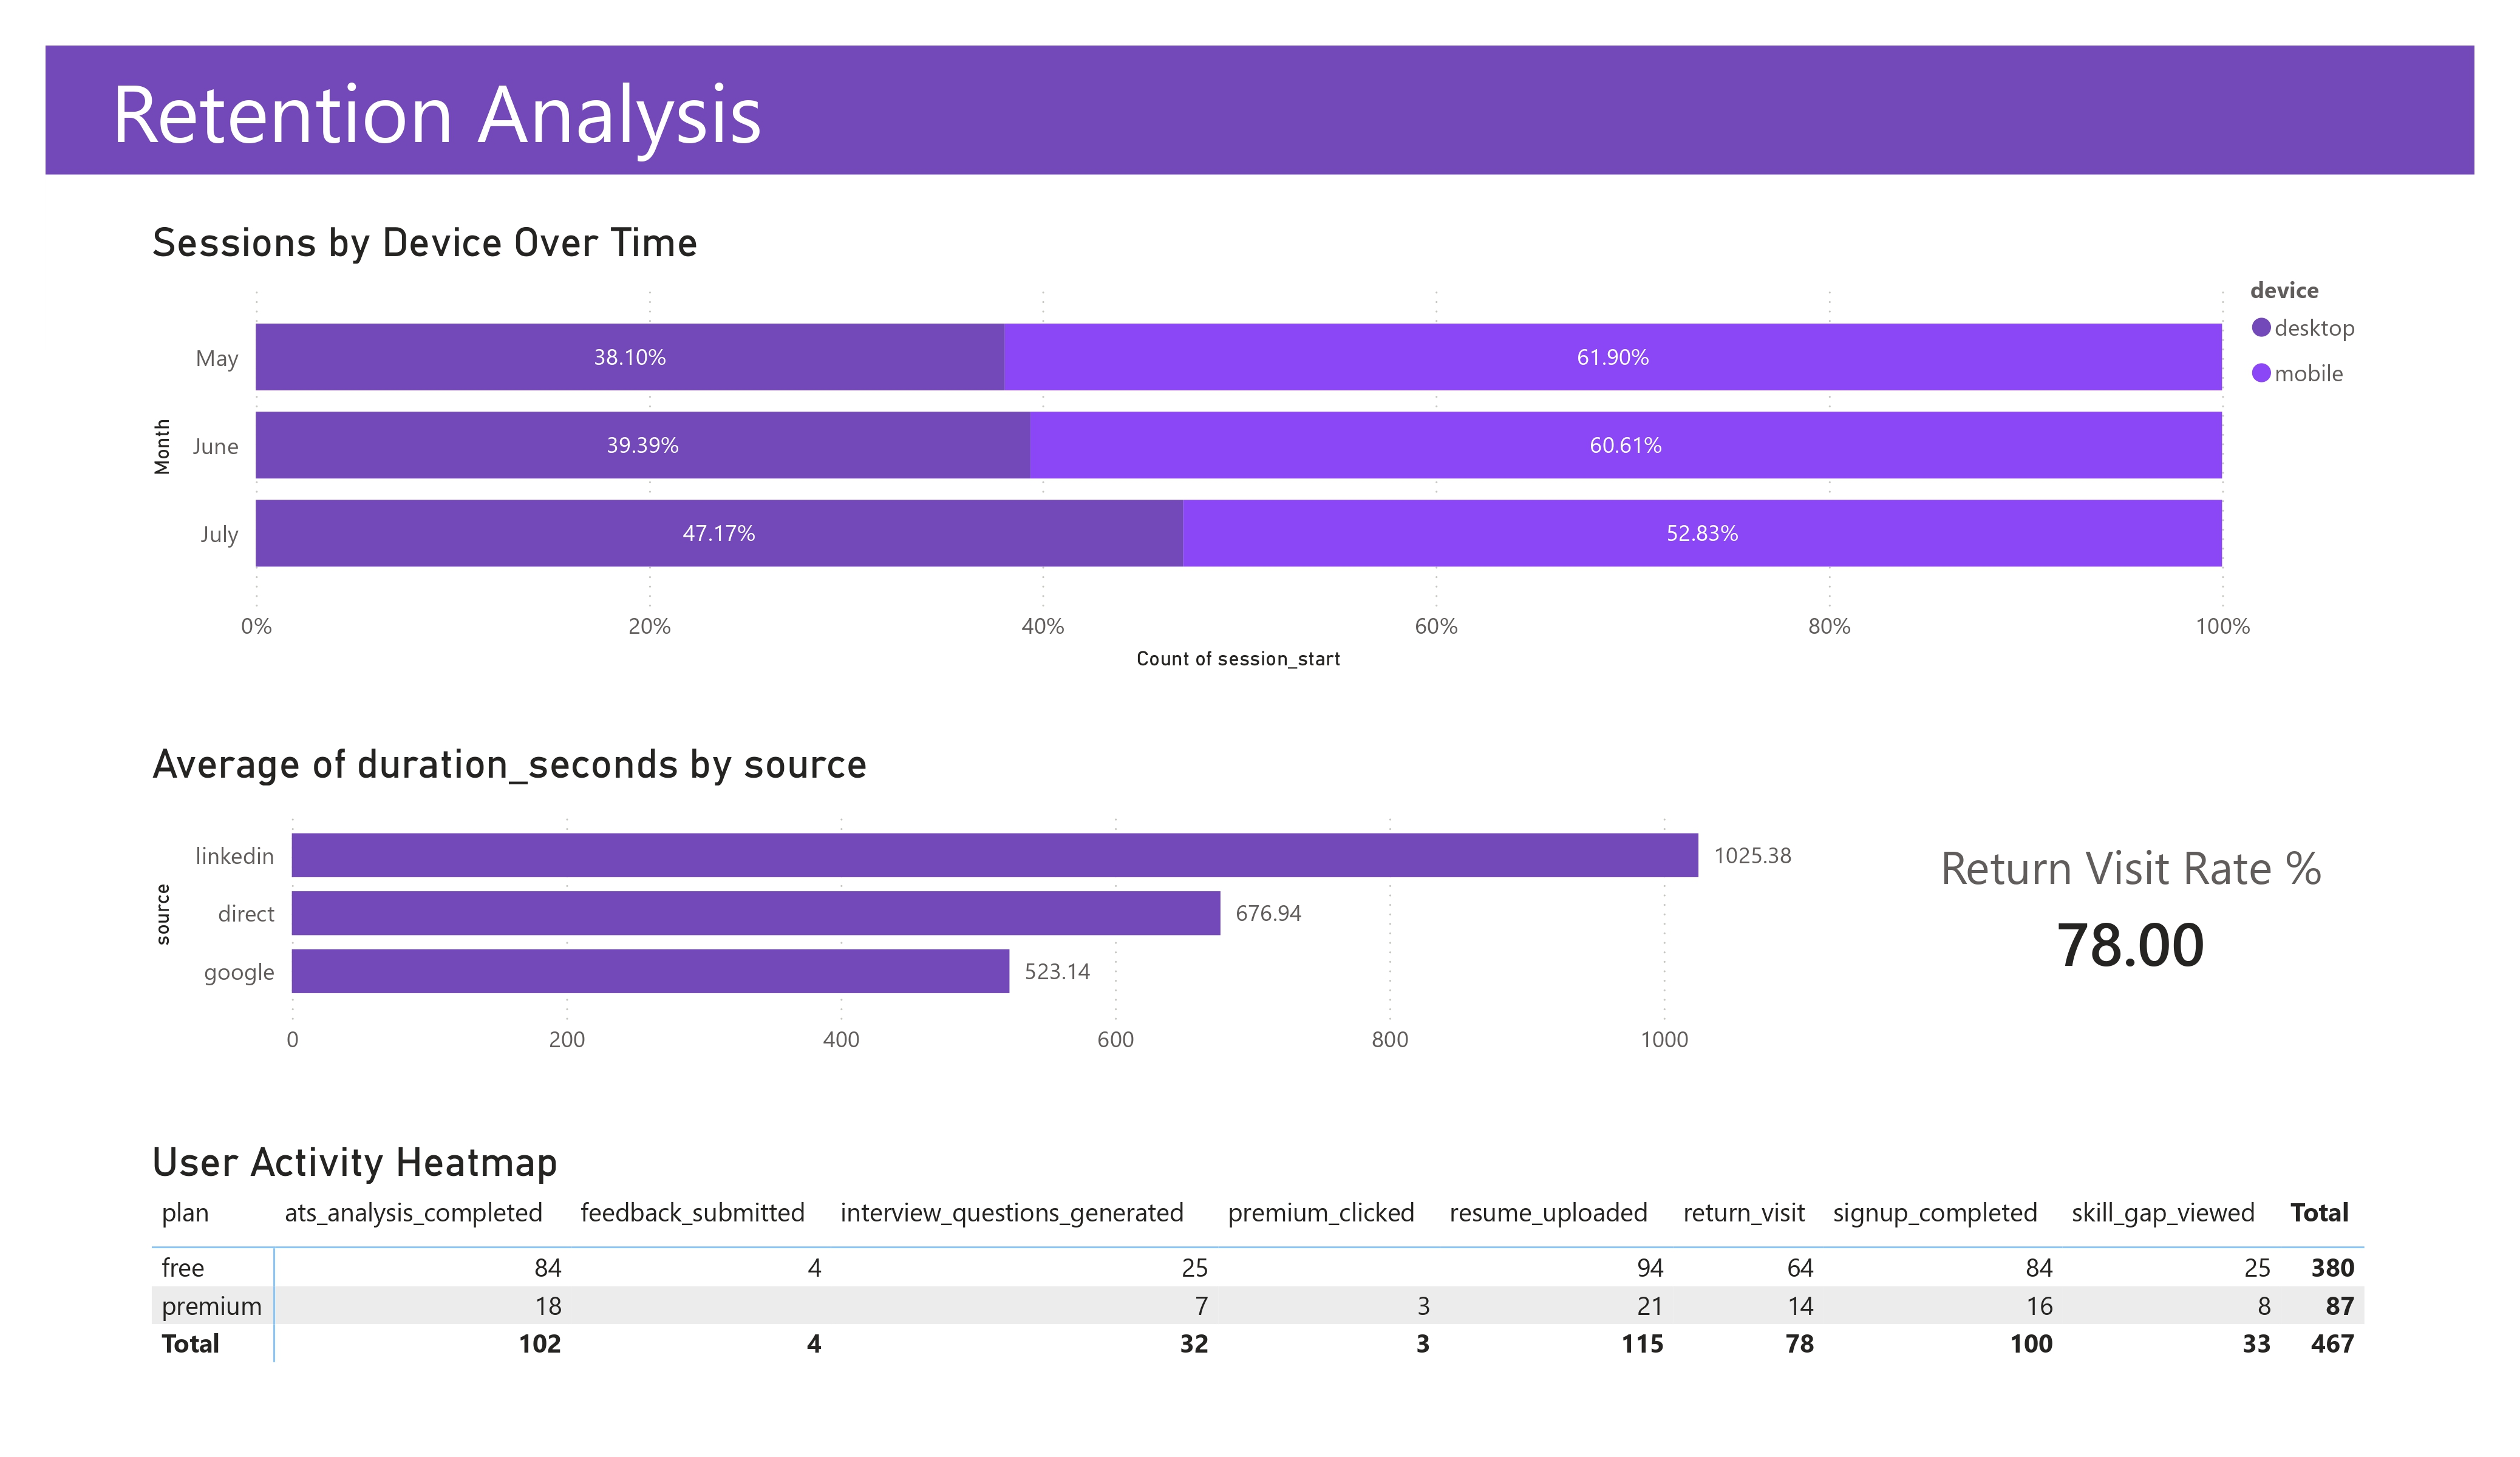

The page's visual inventory and layout, read from the dashboard file:
{"tool":"powerbi","page":{"name":"Retention","canvas":[1280,720],"ordinal":3},"visuals":[{"type":"textbox","box":[0,0,1280,67.5],"z":0},{"type":"cardVisual","fields":{"Data":["users.Return Visit Rate %"]},"box":[960,360,277.5,187.5],"z":1000},{"type":"hundredPercentStackedBarChart","title":"Sessions by Device Over Time","fields":{"Category":["sessions.session_start.Variation.Date Hierarchy.Month"],"Y":["CountNonNull(sessions.session_start)"],"Series":["sessions.device"]},"box":[45,85,1192.5,255],"z":2000},{"type":"clusteredBarChart","fields":{"Y":["Avg(sessions.duration_seconds)"],"Category":["sessions.source"]},"box":[45,360,903.8,187.5],"z":3000},{"type":"pivotTable","title":"User Activity Heatmap","fields":{"Rows":["users.plan"],"Columns":["events.event_name"],"Values":["CountNonNull(events.event_name)"]},"box":[45,570,1192.5,137.5],"z":4000}]}

Visuals, with their boxes on the page's 1280x720 design canvas (x1, y1, x2, y2). These are canvas units, not pixel positions in the 2520x1457 screenshot, which may show the page scaled, cropped or inside an application window:
textbox: x1=0 y1=0 x2=1280 y2=68
cardVisual - users.Return Visit Rate %: x1=960 y1=360 x2=1238 y2=548
"Sessions by Device Over Time" hundredPercentStackedBarChart: x1=45 y1=85 x2=1238 y2=340
clusteredBarChart - Avg(sessions.duration_seconds) x sessions.source: x1=45 y1=360 x2=949 y2=548
"User Activity Heatmap" pivotTable: x1=45 y1=570 x2=1238 y2=708
